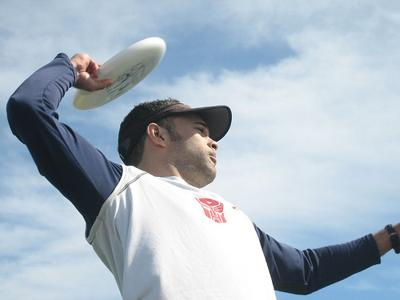person: (6, 53, 400, 300)
